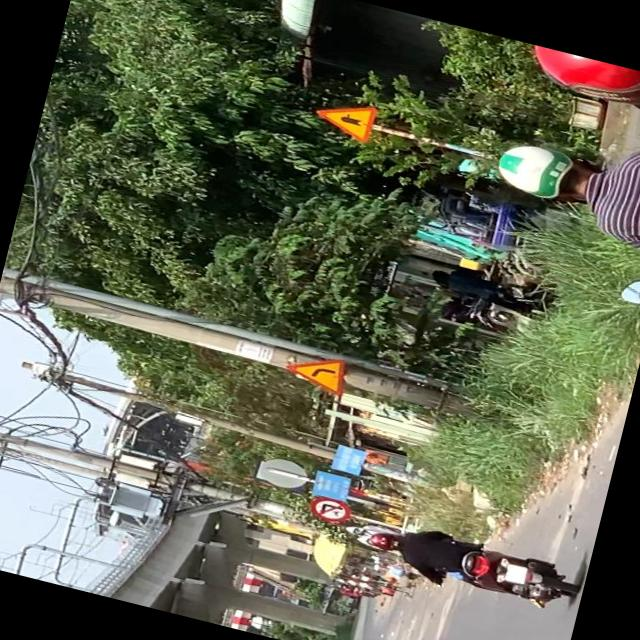W-201a: (280, 348, 346, 396)
W-207b: (308, 92, 376, 144)
